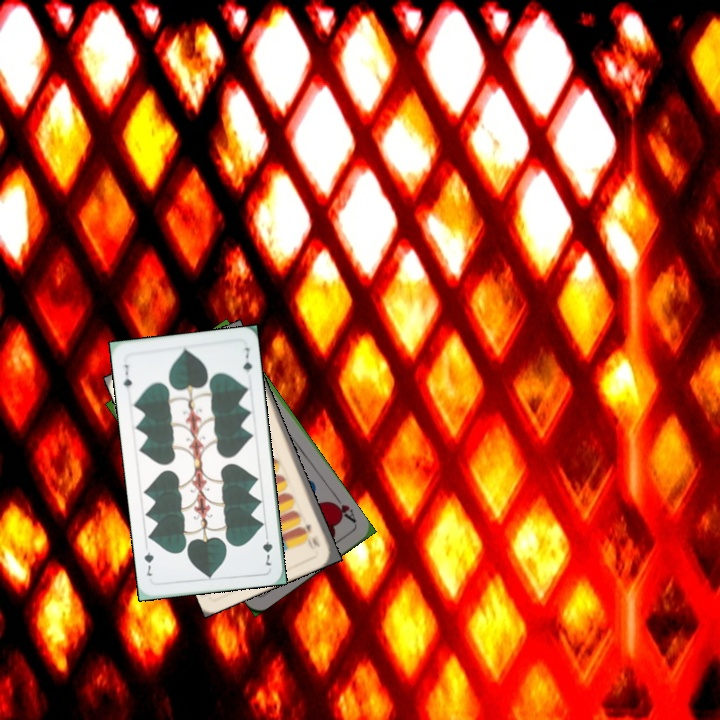E10: (301, 520, 322, 550)
G7: (258, 529, 275, 568), (119, 360, 134, 396)
HA: (327, 491, 359, 526)
